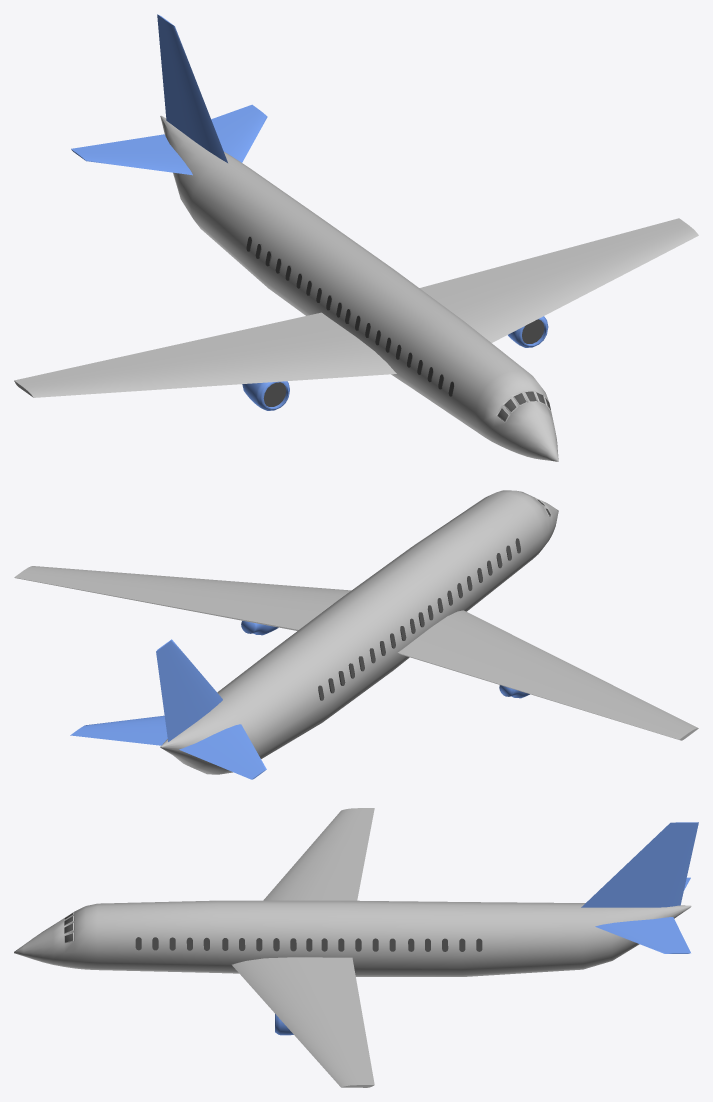
Rendered from airplane.glb.
The picture shows the model from 3 angles, top to bottom: view 1: azimuth 30°, elevation 25°; view 2: azimuth 150°, elevation 25°; view 3: azimuth 270°, elevation 25°; orthographic projection. The views are drawn at different scales.
Parts seen in each view (by area): view 1: Main_Body, Loft_1_5, Loft_1_3, Loft_1, Extrude_24, Boole_1, Cylinder; view 2: Main_Body, Loft_1_5, Loft_1_3, Loft_1, Extrude_24, Boole_1; view 3: Main_Body, Loft_1_5, Loft_1, Loft_1_3, Extrude_24.
Part boxes in pixels (x1=…): Main_Body: x1=160, y1=115, x2=558, y2=461; Loft_1_5: x1=14, y1=218, x2=698, y2=397; Loft_1_3: x1=71, y1=104, x2=267, y2=175; Loft_1: x1=157, y1=14, x2=227, y2=162; Extrude_24: x1=246, y1=236, x2=454, y2=396; Boole_1: x1=242, y1=316, x2=548, y2=410; Cylinder: x1=263, y1=319, x2=544, y2=406; Main_Body: x1=160, y1=490, x2=558, y2=774; Loft_1_5: x1=14, y1=566, x2=698, y2=740; Loft_1_3: x1=70, y1=715, x2=266, y2=779; Loft_1: x1=156, y1=639, x2=222, y2=741; Extrude_24: x1=318, y1=538, x2=520, y2=700; Boole_1: x1=241, y1=621, x2=529, y2=698; Main_Body: x1=14, y1=900, x2=691, y2=976; Loft_1_5: x1=232, y1=808, x2=374, y2=1087; Loft_1: x1=581, y1=822, x2=698, y2=907; Loft_1_3: x1=595, y1=877, x2=690, y2=953; Extrude_24: x1=135, y1=937, x2=482, y2=951.
Size of the model in its own units: 9.84 by 2.62 by 10.29.
